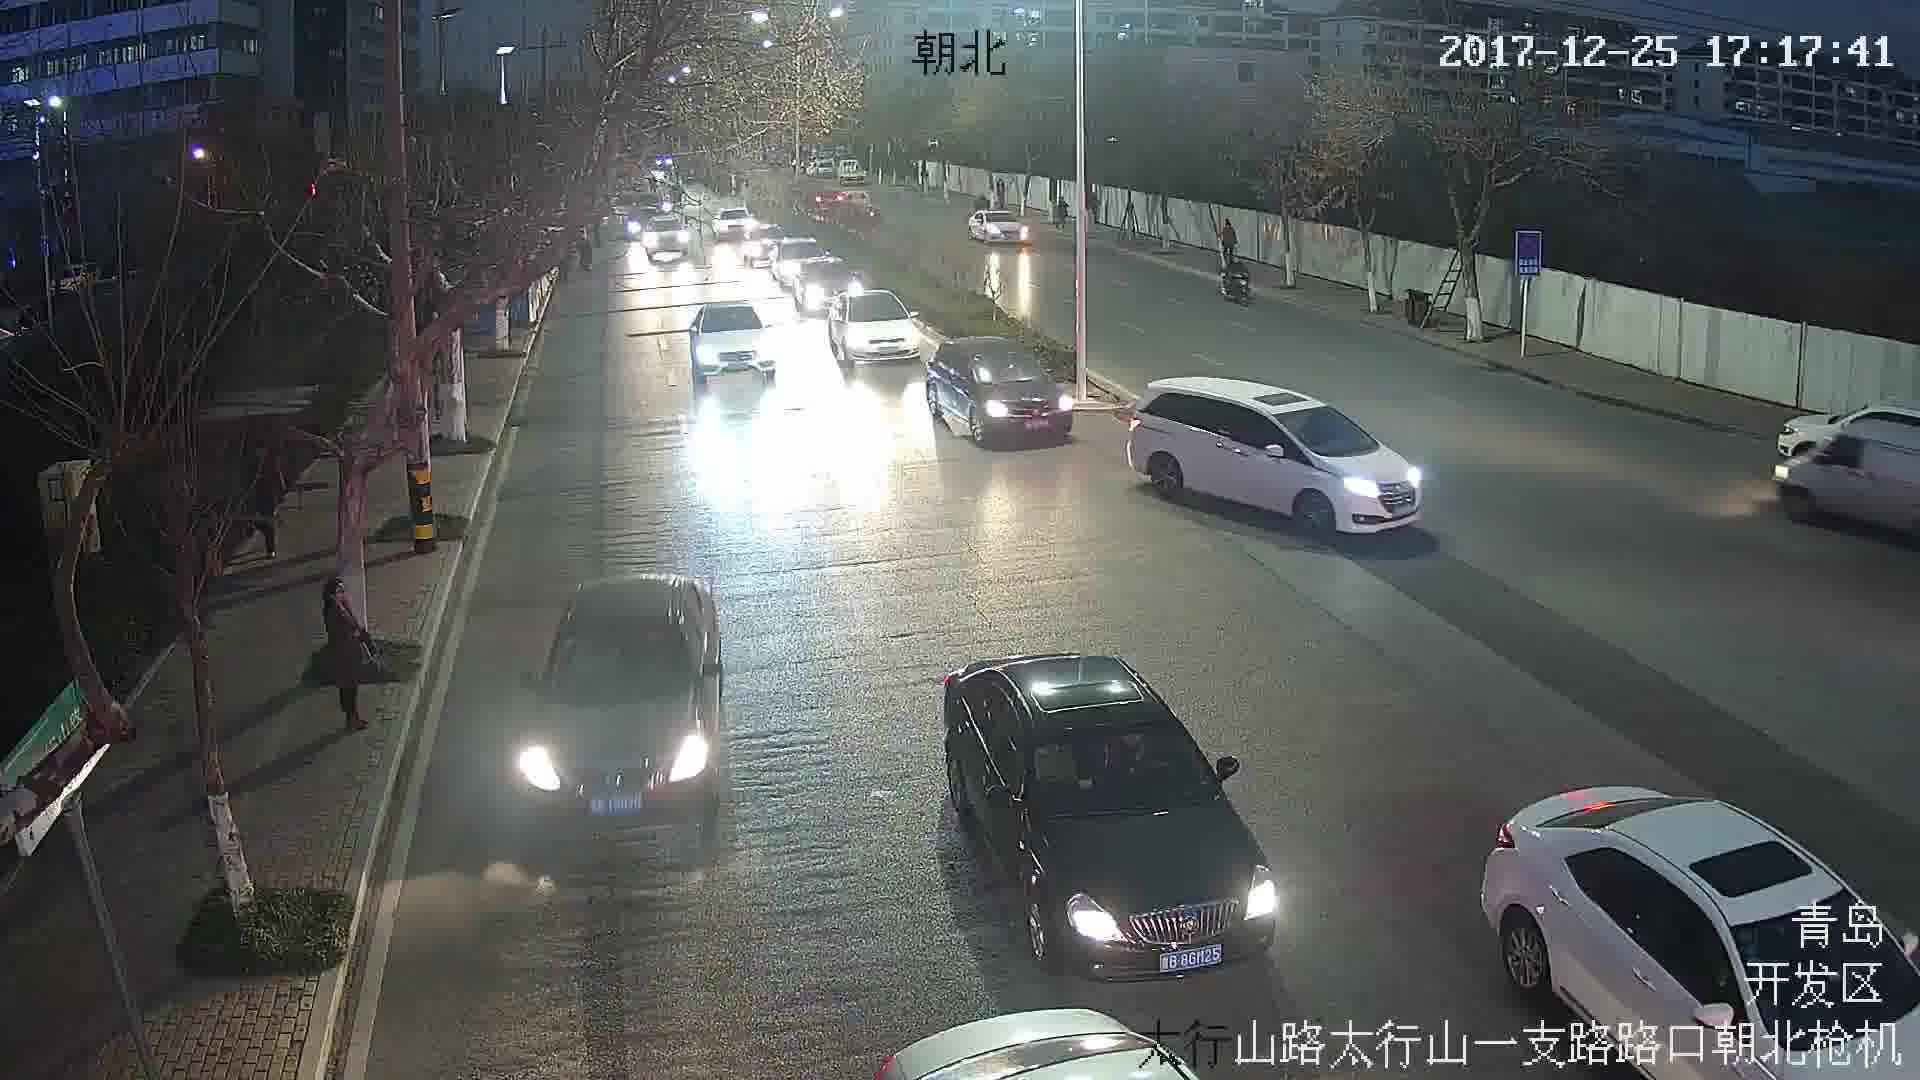car: (941, 655, 1280, 973), (517, 580, 734, 839), (1130, 377, 1417, 532), (931, 334, 1077, 441), (835, 289, 927, 370), (691, 302, 780, 377), (971, 202, 1031, 242)
person: (321, 582, 374, 734), (1220, 223, 1245, 259)
